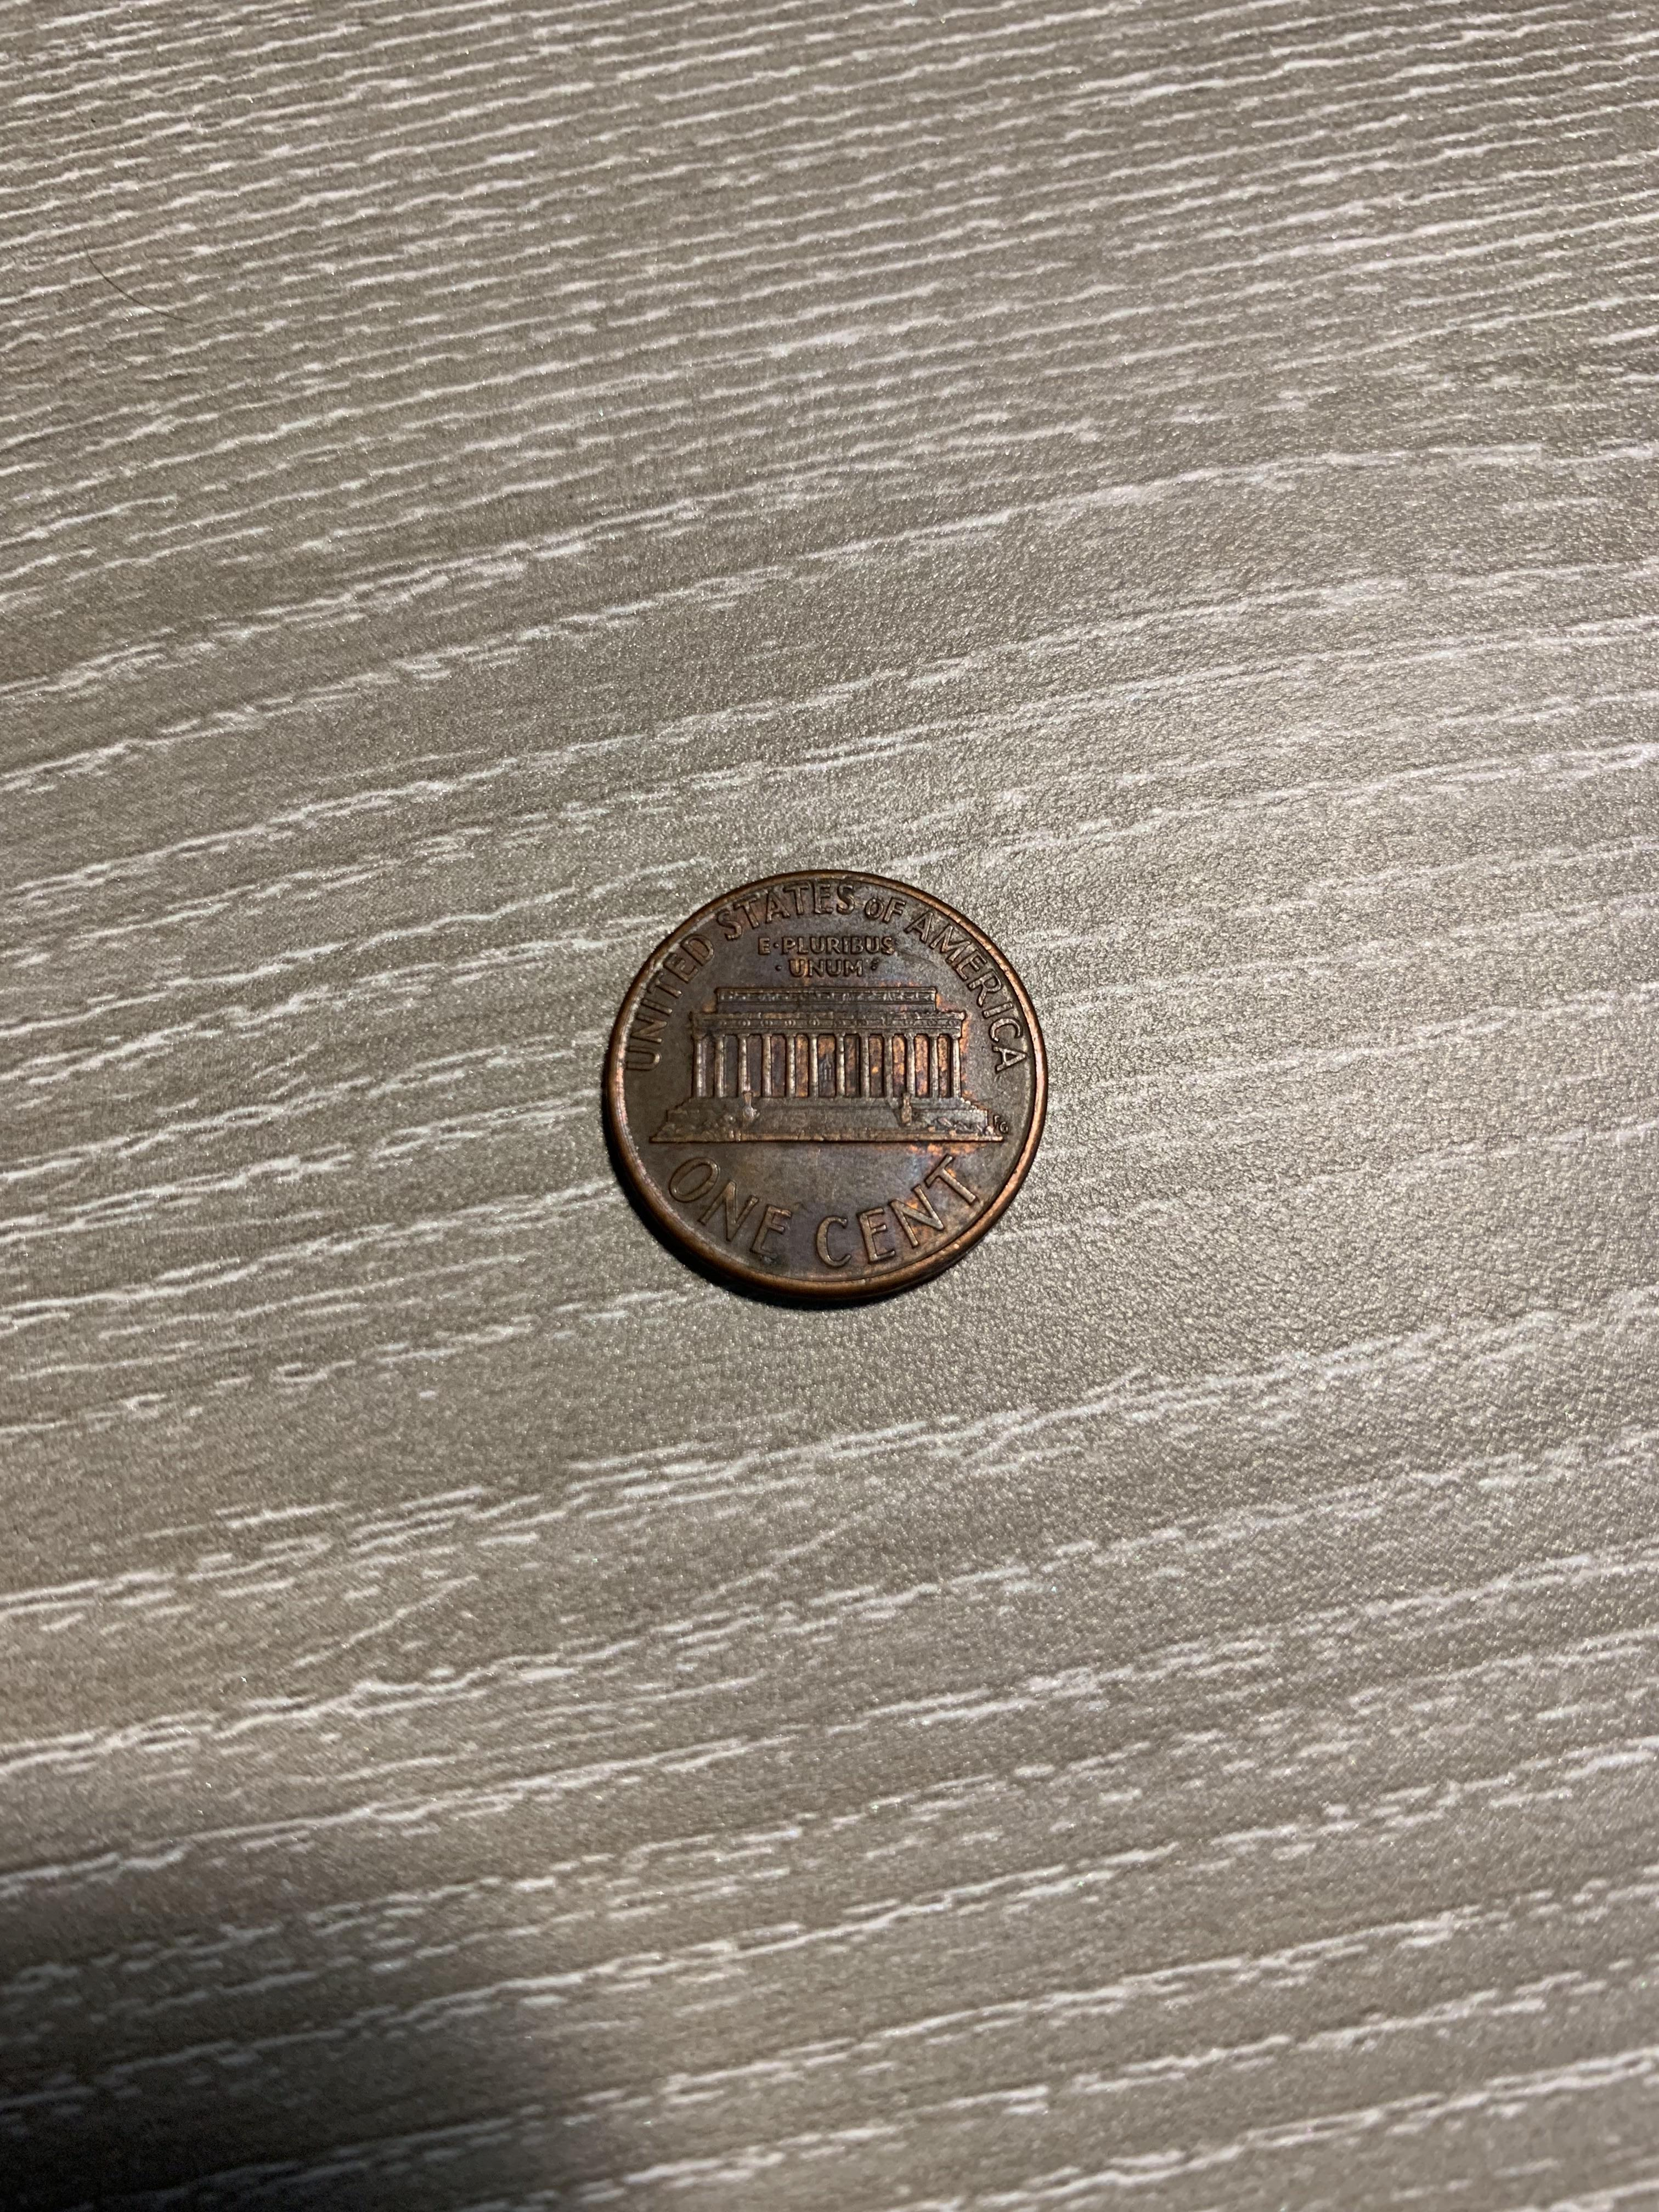Penny: (584, 859, 1061, 1317)
